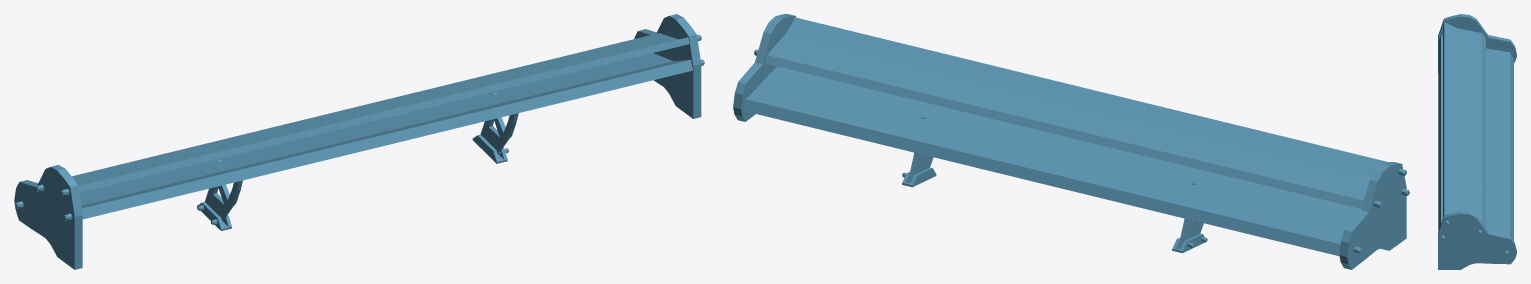
Rendered from Spojler_cinco.fbx.
3 views of the same model, side by side, from view 1: azimuth 30°, elevation 25°; view 2: azimuth 150°, elevation 25°; view 3: azimuth 270°, elevation 25° (orthographic). The views are drawn at different scales.
Visible parts, largest first — view 1: uploads_files_45747_5, uploads_files_45747_5.001; view 2: uploads_files_45747_5, uploads_files_45747_5.001; view 3: uploads_files_45747_5, uploads_files_45747_5.001.
Part boxes in pixels (<box>): uploads_files_45747_5: <box>15,33,704,230</box>; uploads_files_45747_5.001: <box>14,14,701,269</box>; uploads_files_45747_5: <box>743,17,1409,256</box>; uploads_files_45747_5.001: <box>733,14,1406,269</box>; uploads_files_45747_5: <box>1438,22,1513,255</box>; uploads_files_45747_5.001: <box>1438,14,1516,269</box>.
Bounding box in the file's own units: 199 × 33.33 × 32.7.
